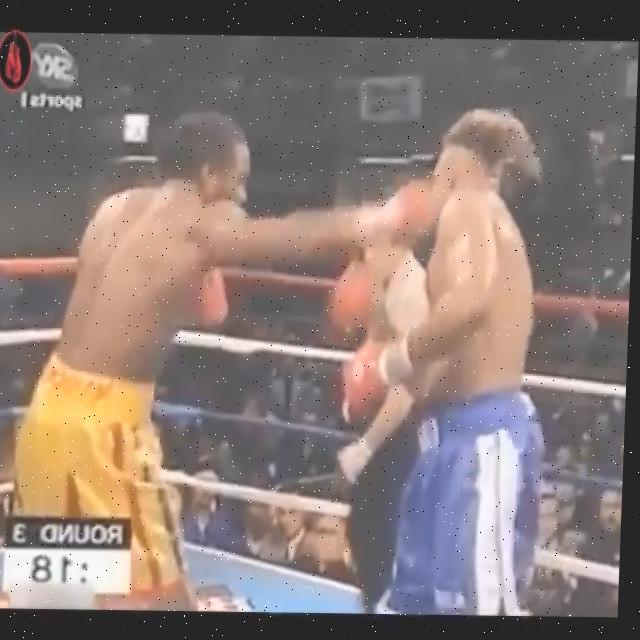Jab: (130, 156, 460, 319)
